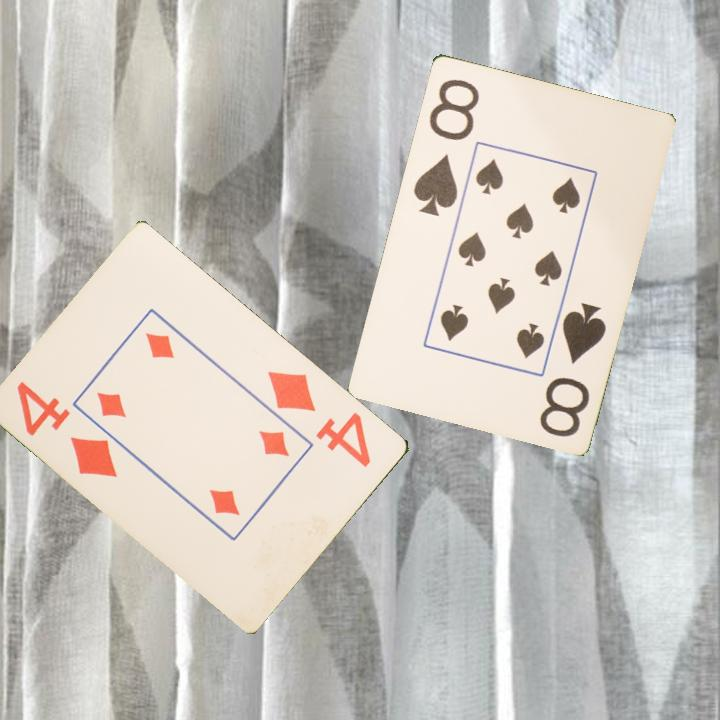4d: (13, 377, 122, 481), (265, 367, 375, 470)
8s: (409, 74, 482, 219), (535, 298, 609, 440)
